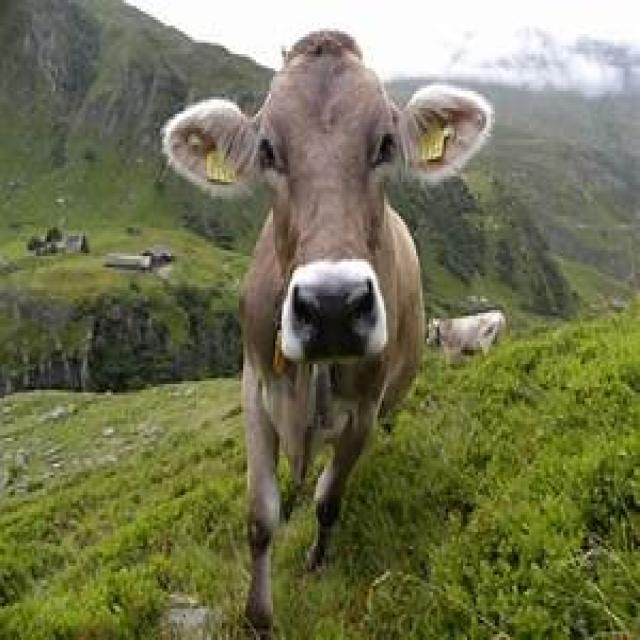cow: (160, 28, 495, 640)
